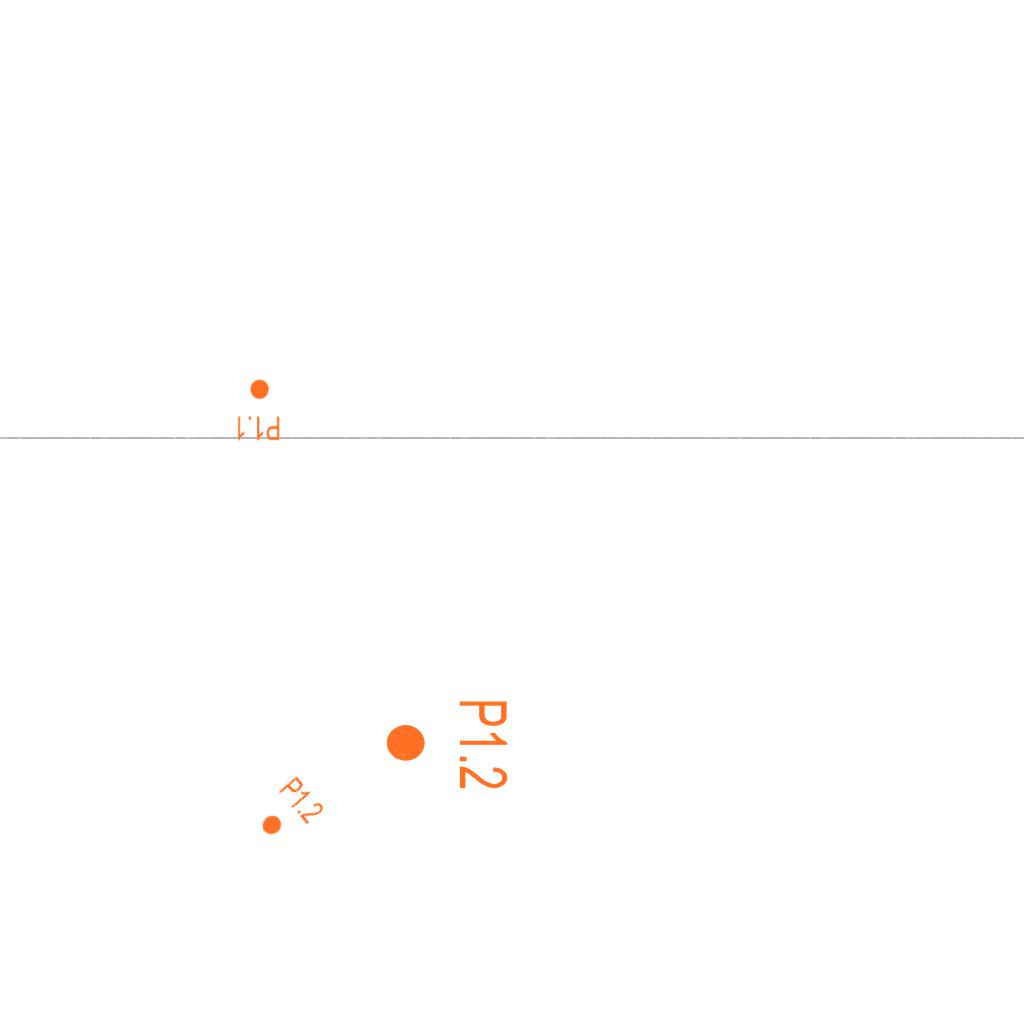Downlight_LED_Einbauleuchten_Flur: (383, 698, 511, 791), (248, 773, 328, 851), (235, 378, 281, 442)
